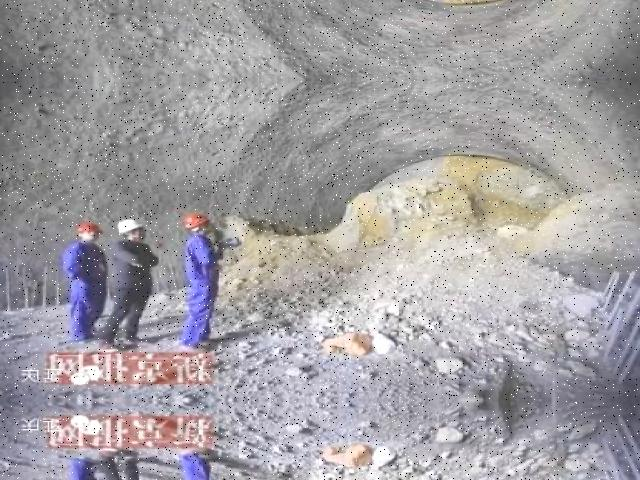Helmet: (182, 207, 215, 231), (117, 215, 151, 238), (75, 216, 108, 236)
